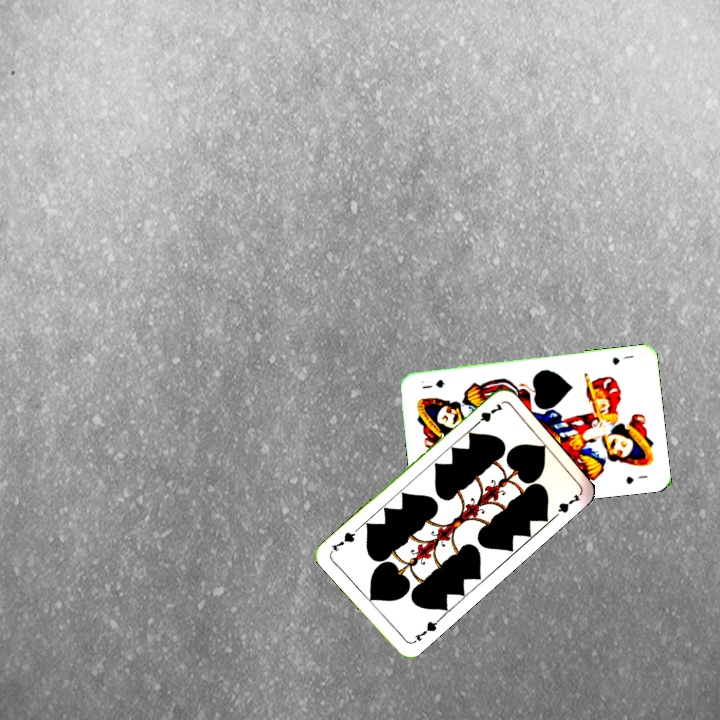G7: (469, 399, 506, 430), (408, 615, 442, 646)
GU: (608, 351, 636, 368)
